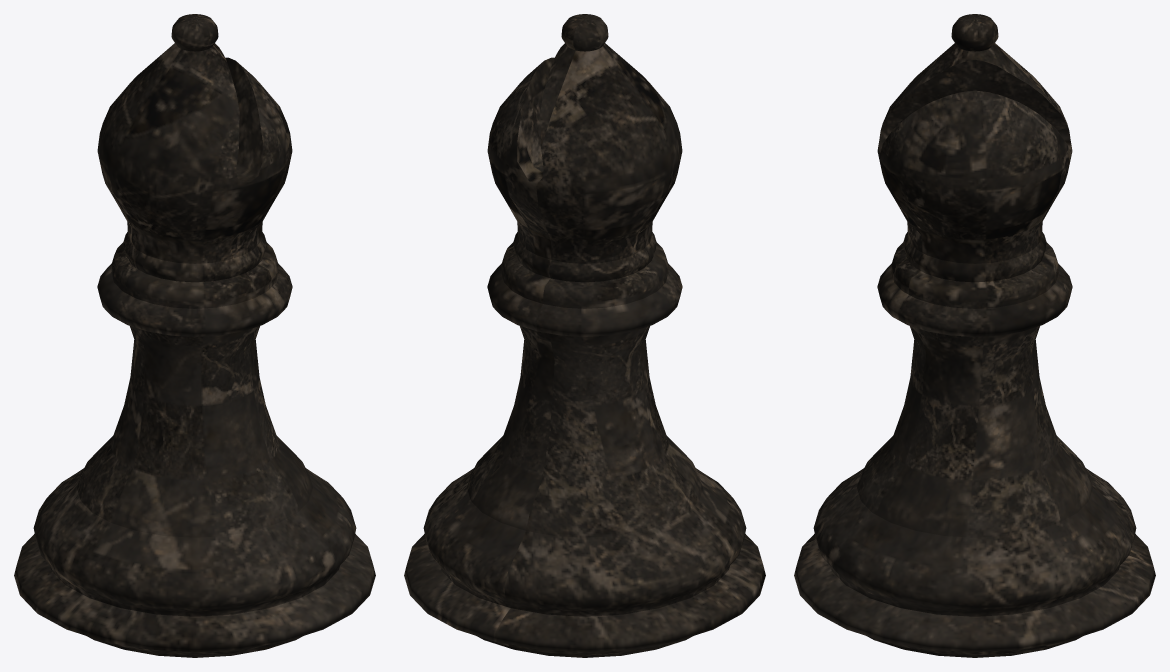
Rendered from mermer_b_b.glb.
3 views of the same model, side by side, from view 1: azimuth 30°, elevation 25°; view 2: azimuth 150°, elevation 25°; view 3: azimuth 270°, elevation 25° (orthographic).
Visible parts, largest first — view 1: SM_Bishop1; view 2: SM_Bishop1; view 3: SM_Bishop1.
Part boxes in pixels (x1,y1,x2,y2): SM_Bishop1: (14, 14, 375, 657); SM_Bishop1: (404, 14, 765, 657); SM_Bishop1: (794, 14, 1155, 657).
Size of the model in its own units: 3.72 by 6.54 by 3.7.
1 material, 1 textured.
